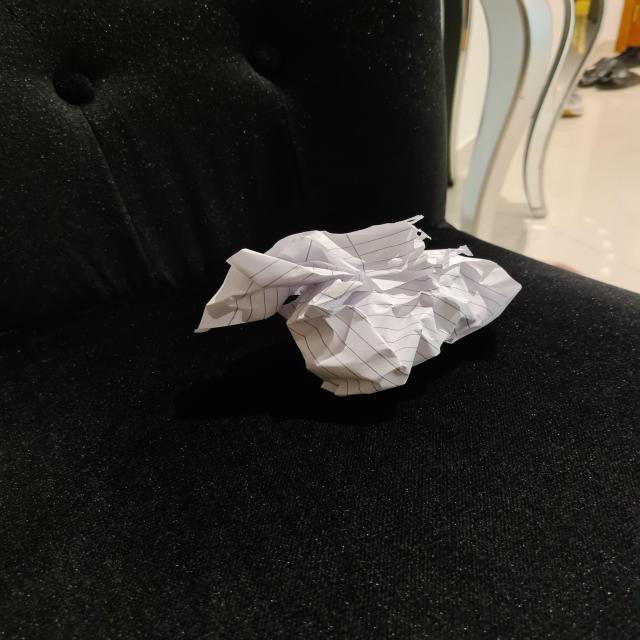cardboard paper: (196, 215, 519, 394)
